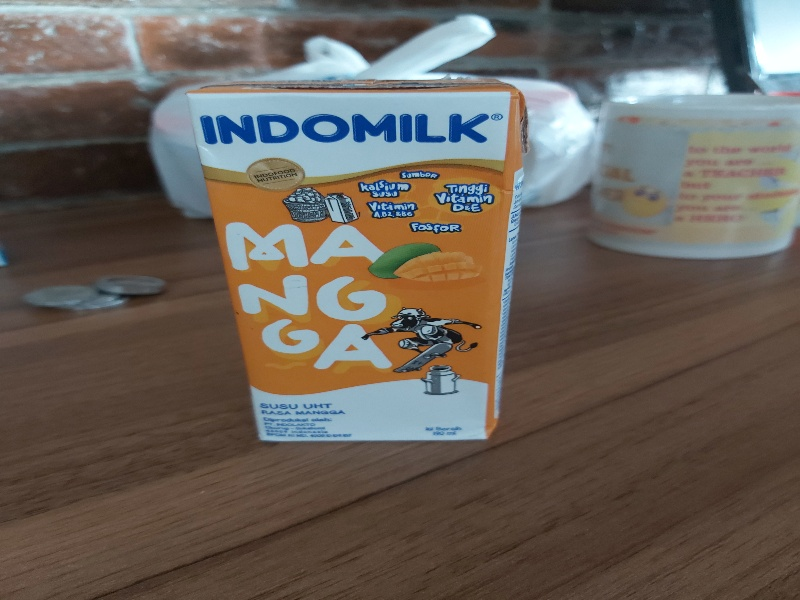mangga: (184, 77, 530, 439)
